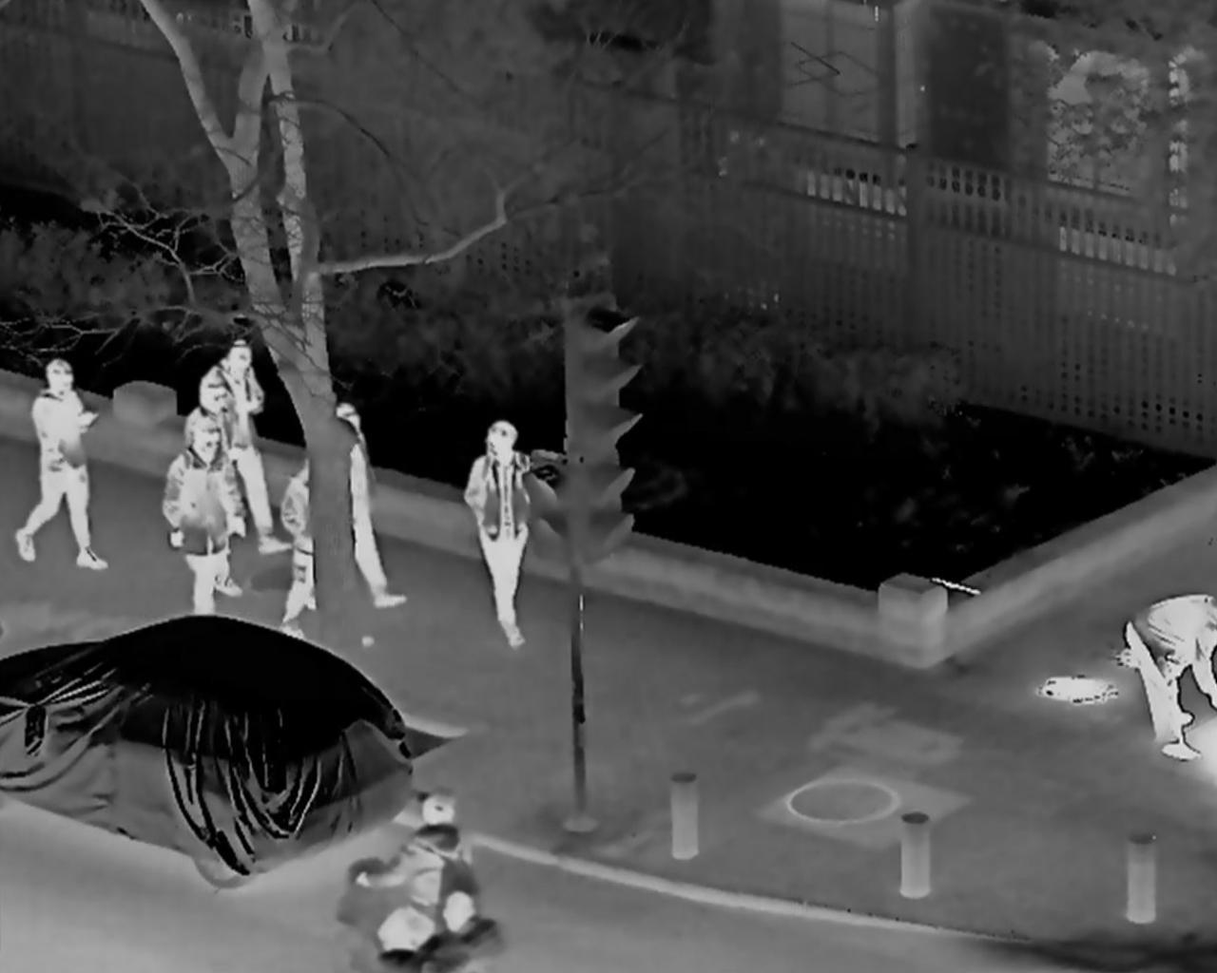person: (361, 791, 487, 968), (307, 400, 409, 611), (15, 364, 114, 578), (270, 448, 372, 648), (200, 336, 286, 558), (460, 421, 541, 648), (1128, 587, 1214, 765), (167, 418, 235, 630), (182, 383, 245, 601)
